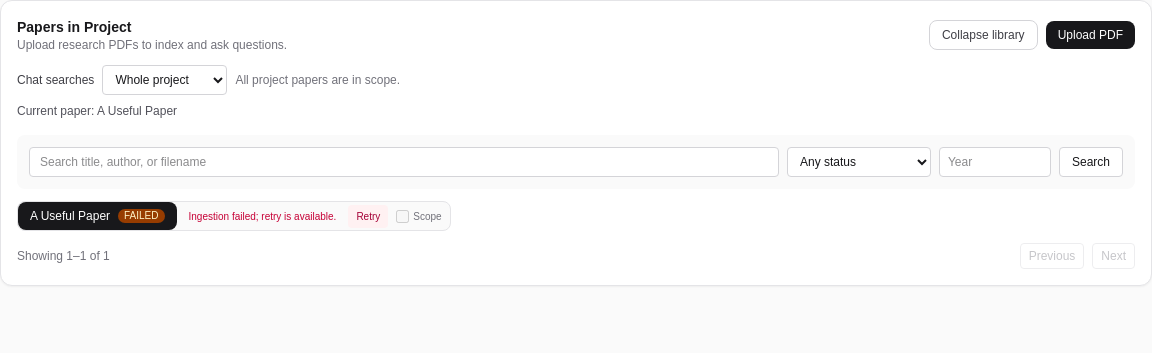
Test case: PaperUploader library controls › replaces raw server error details with a safe retry message
What coordinates should you click on to do the following:
click the button "Retry"
I would click on:
 (368, 216)
Its box is left=348, top=204, right=388, bottom=228.
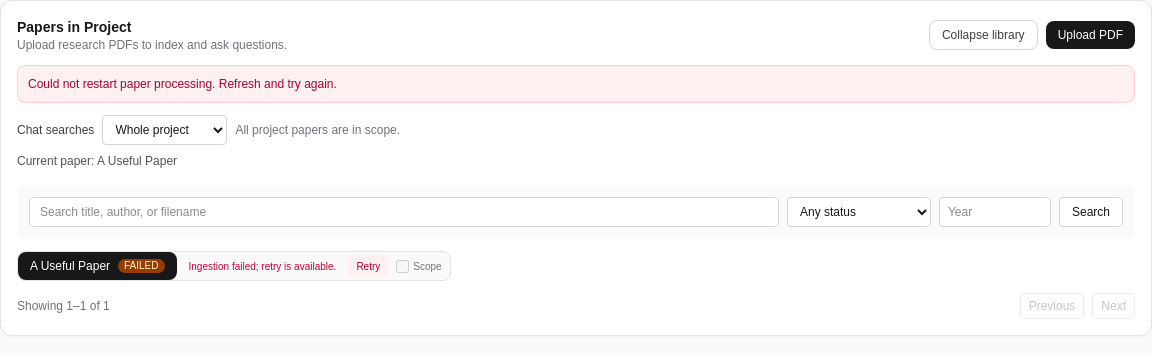
Expected: the text "Could not restart paper processing. Refresh and try again." is shown, left=17, top=65, right=1135, bottom=103
